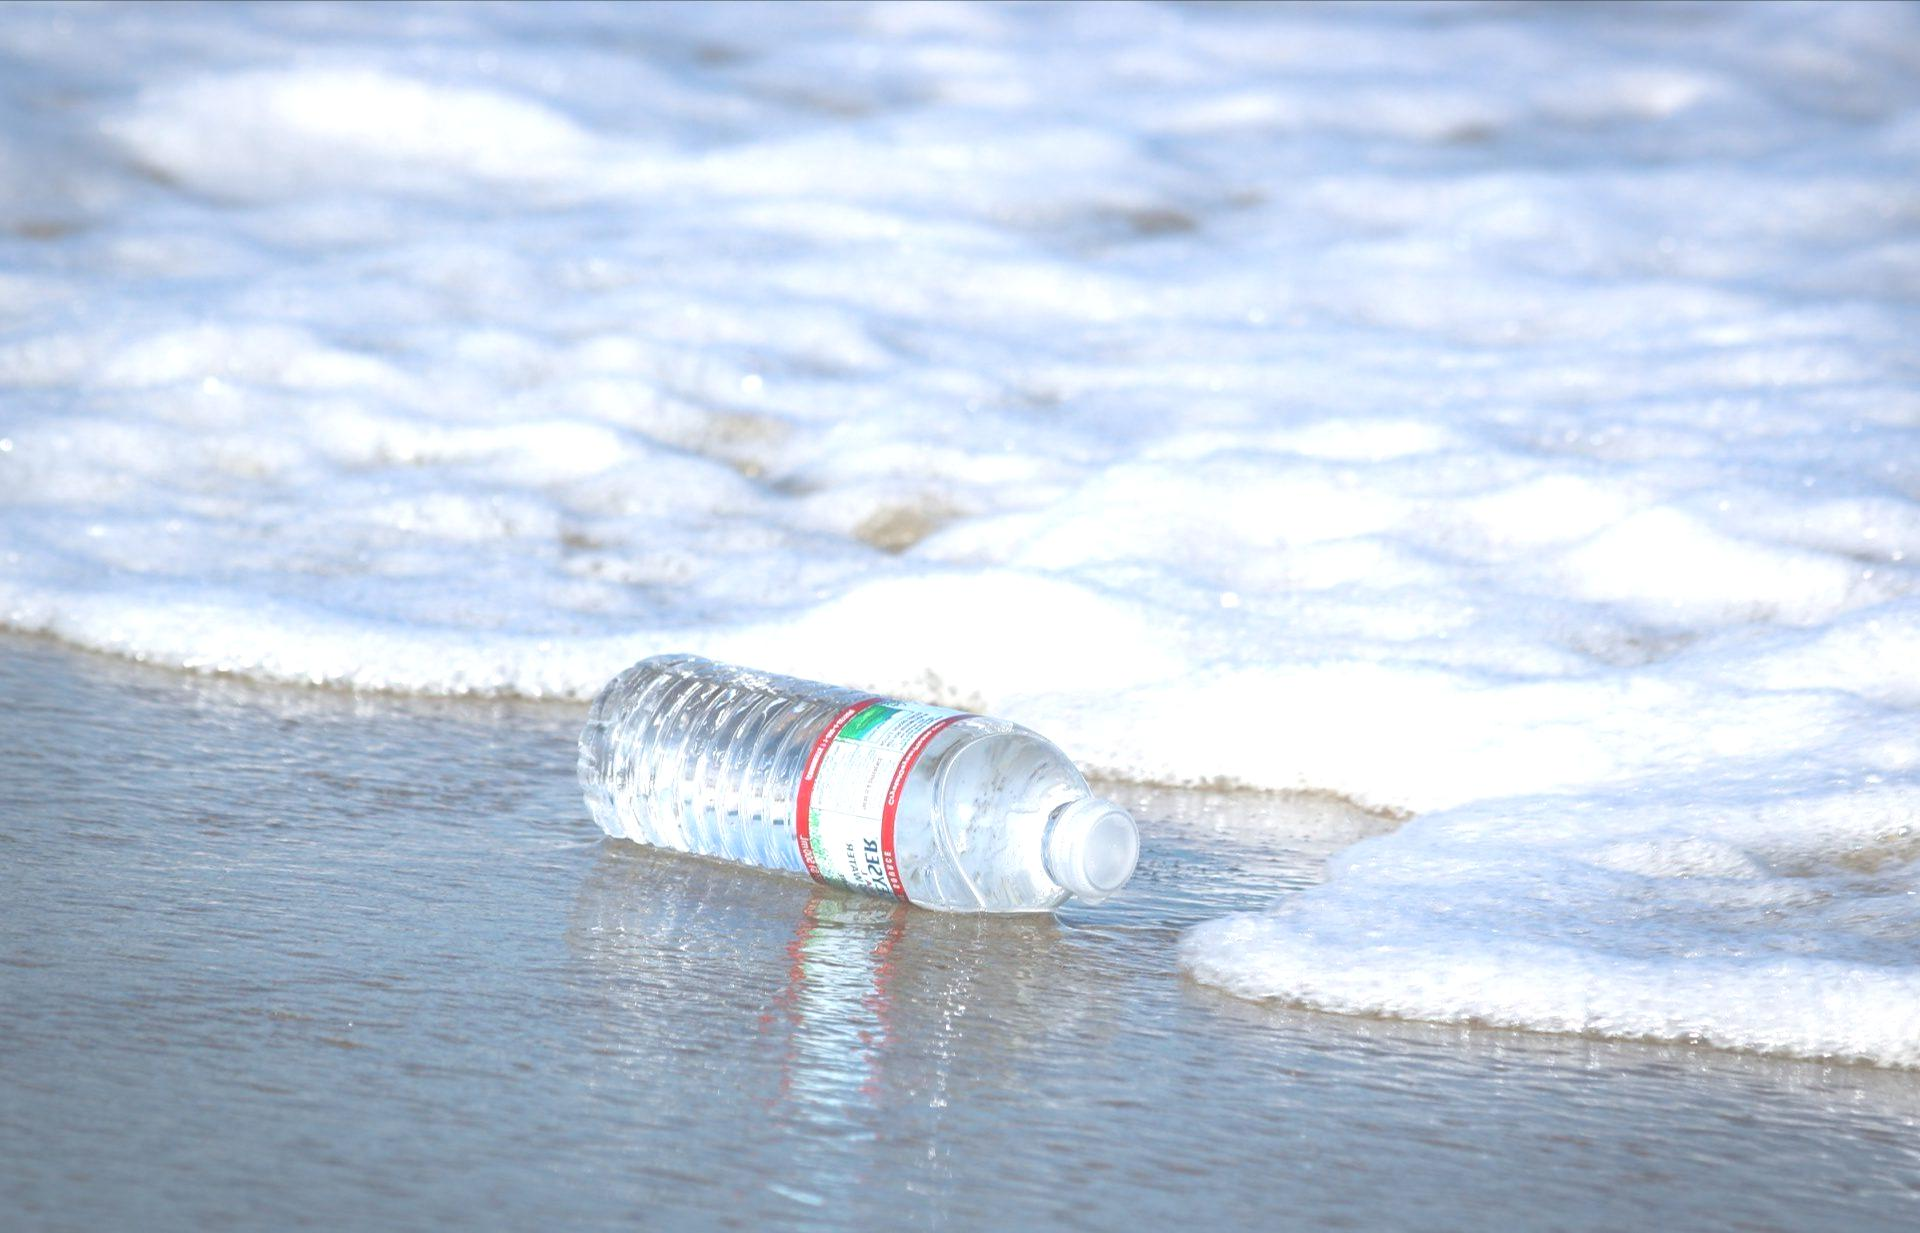bottle: (535, 640, 1209, 1039)
